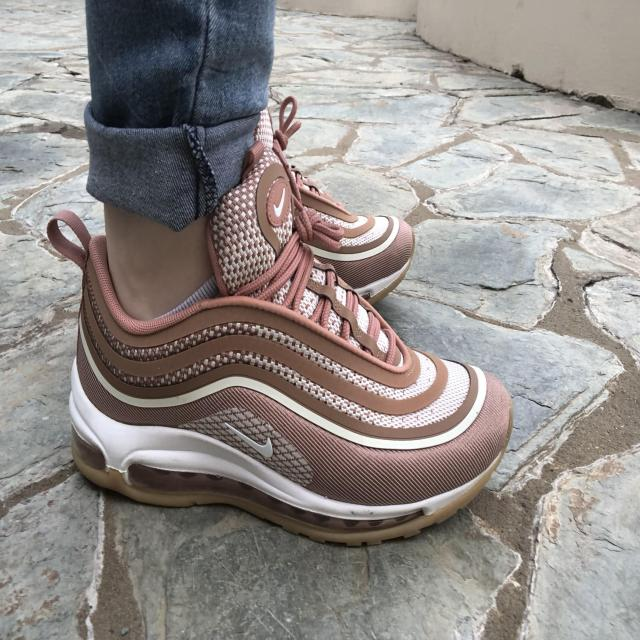shoe: (66, 222, 514, 541), (254, 112, 418, 303)
